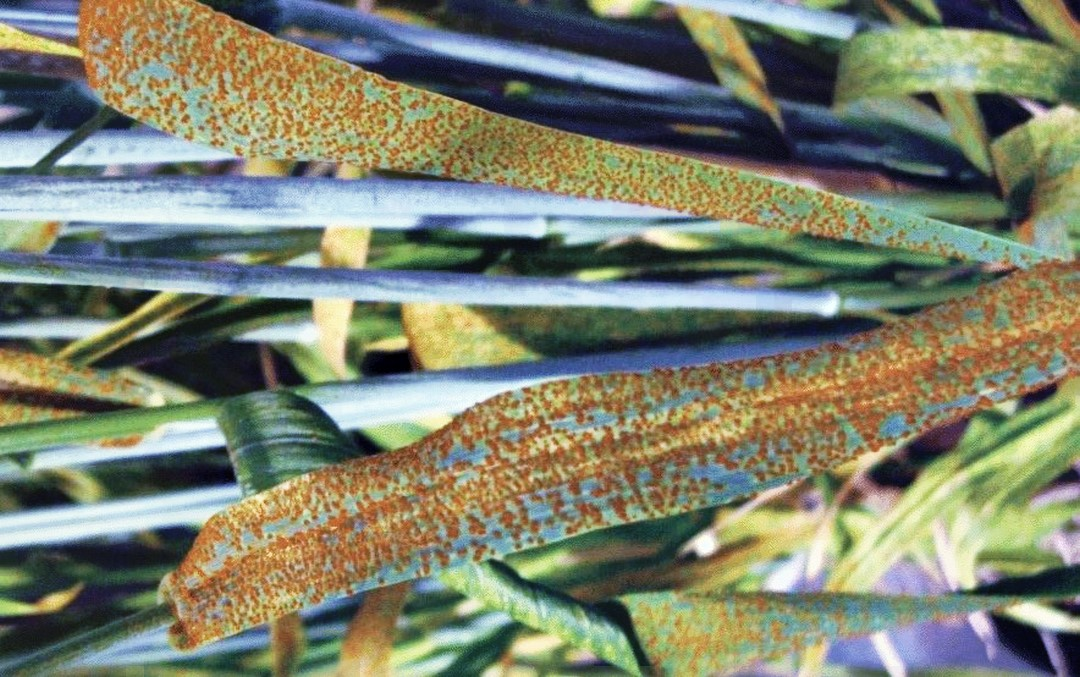Leaf Rust: (194, 271, 954, 618)
